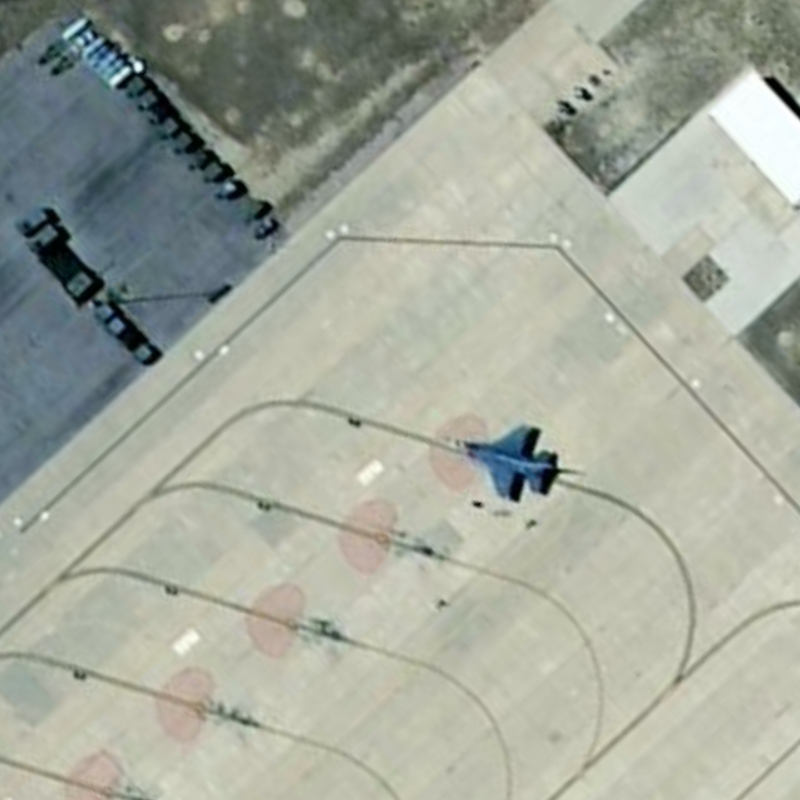A5: (434, 417, 570, 510)
